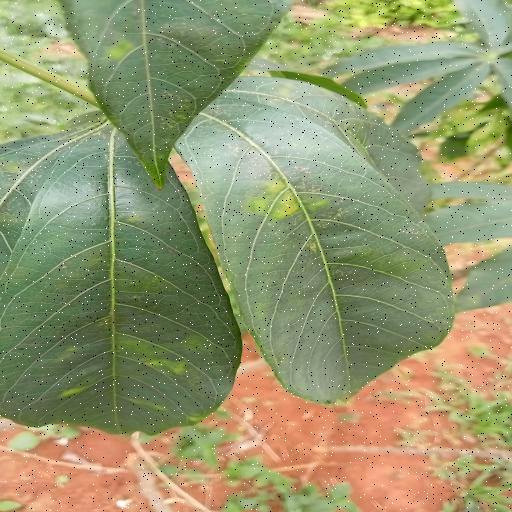Cassava_Bacterial_Disease: (0, 84, 459, 435)
